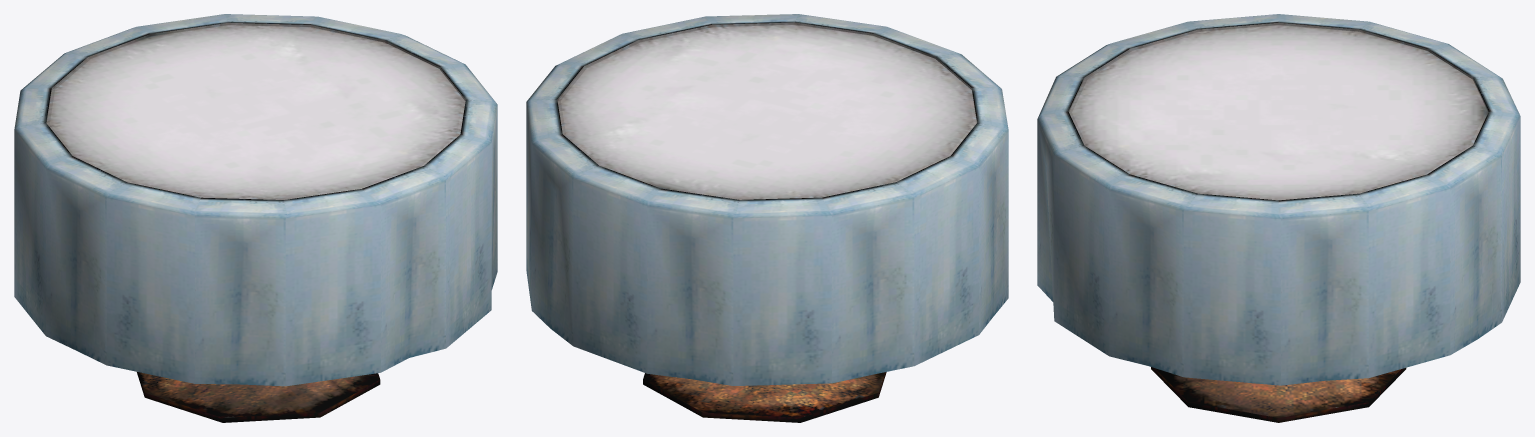
File: thm_frn_table_s01_l0.fbx
3 views of the same model, side by side, from view 1: azimuth 30°, elevation 25°; view 2: azimuth 150°, elevation 25°; view 3: azimuth 270°, elevation 25° (orthographic).
Visible parts, largest first — view 1: mesh_node; view 2: mesh_node; view 3: mesh_node.
Boxes of the visible parts, x1,y1,x2,y2 form: mesh_node: (14,14,497,422); mesh_node: (526,14,1008,422); mesh_node: (1037,14,1520,422).
Size of the model in its own units: 1.28 by 0.7504 by 1.28.
1 material, 1 textured.
